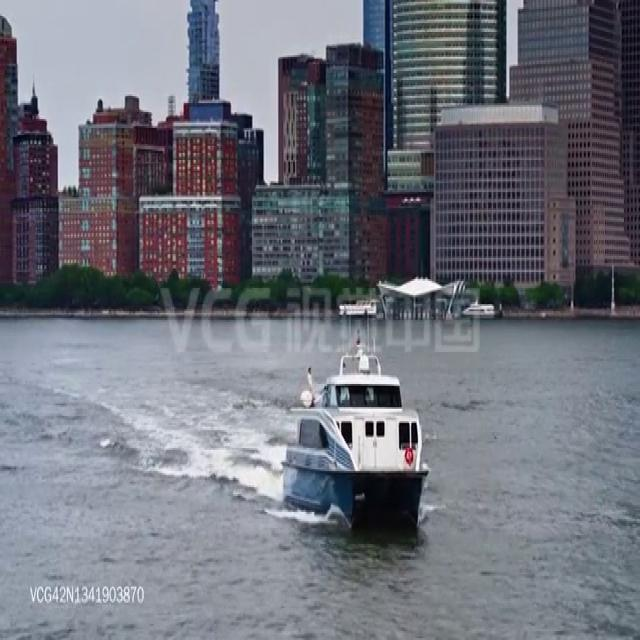houseboat: (462, 298, 498, 317)
